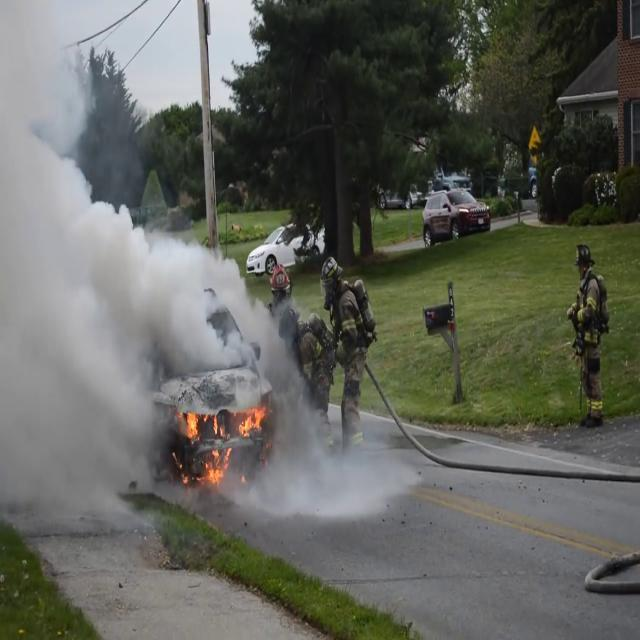Fire: (180, 394, 268, 484)
Smoke: (0, 2, 232, 536)
